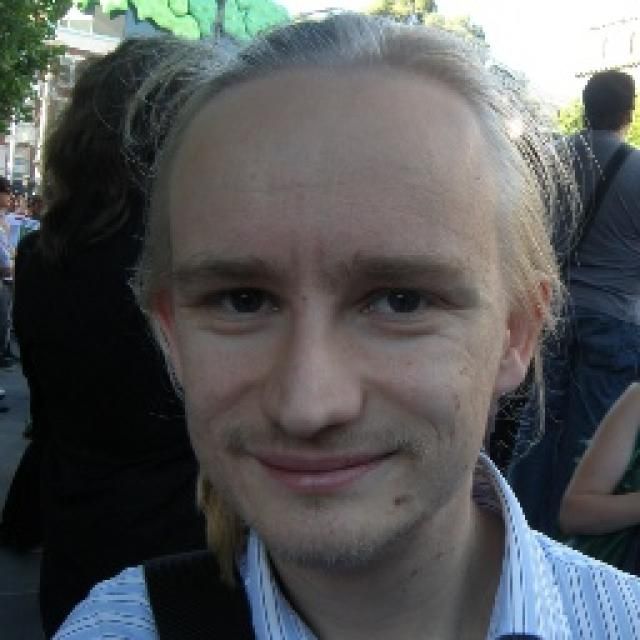earlobe: (492, 272, 554, 396)
